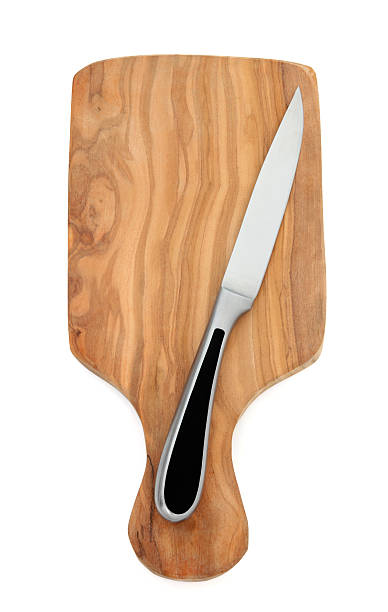knife: (150, 85, 306, 524)
